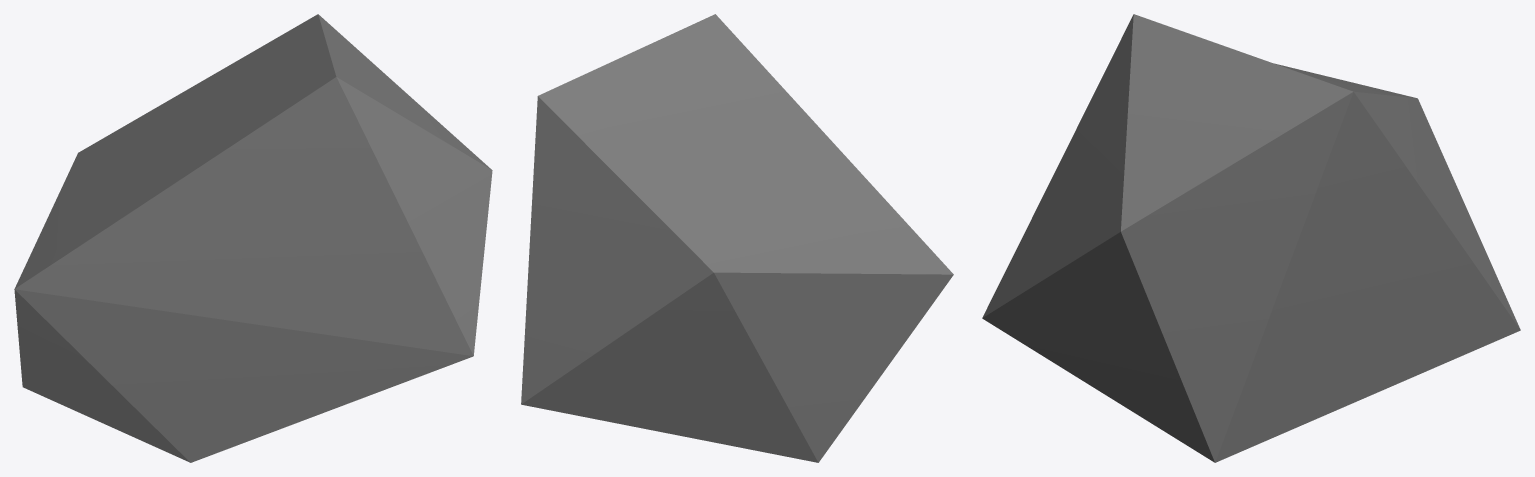
The model's file is rock_tiny.fbx.
The picture shows the model from 3 angles, left to right: view 1: azimuth 30°, elevation 25°; view 2: azimuth 150°, elevation 25°; view 3: azimuth 270°, elevation 25°; orthographic projection. The views are drawn at different scales.
Parts seen in each view (by area): view 1: rock_tiny; view 2: rock_tiny; view 3: rock_tiny.
Part boxes in pixels (x1=…): rock_tiny: x1=14, y1=14, x2=492, y2=462; rock_tiny: x1=521, y1=14, x2=953, y2=462; rock_tiny: x1=982, y1=14, x2=1520, y2=462.
Bounding box in the file's own units: 0.185 × 0.135 × 0.18.
1 material, 1 textured.
